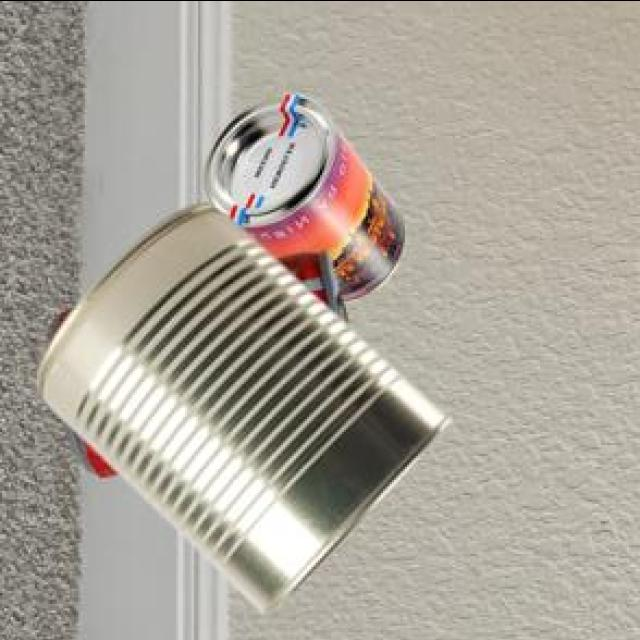logam: (40, 206, 454, 617), (53, 254, 349, 480), (206, 99, 408, 306)
